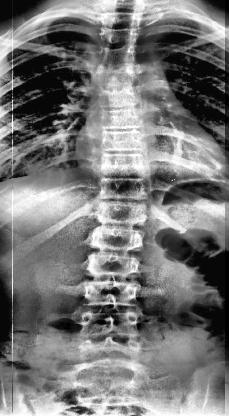Vertebrae: (76, 312, 143, 340), (82, 281, 146, 309), (76, 339, 144, 361), (94, 226, 146, 254), (98, 152, 154, 176), (88, 254, 142, 276), (96, 178, 150, 200), (97, 201, 148, 224), (96, 107, 146, 130), (99, 131, 149, 150), (94, 61, 138, 82), (97, 86, 145, 104), (97, 26, 139, 44), (94, 44, 140, 60), (99, 10, 141, 24)
